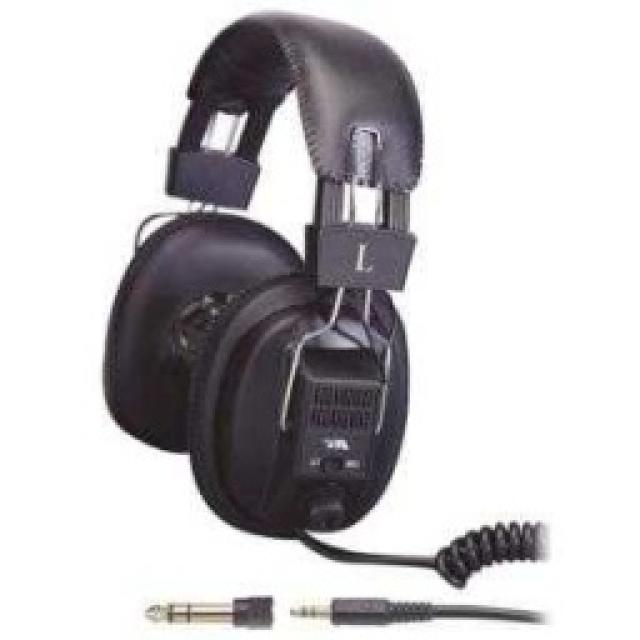headphones: (100, 8, 425, 540)
